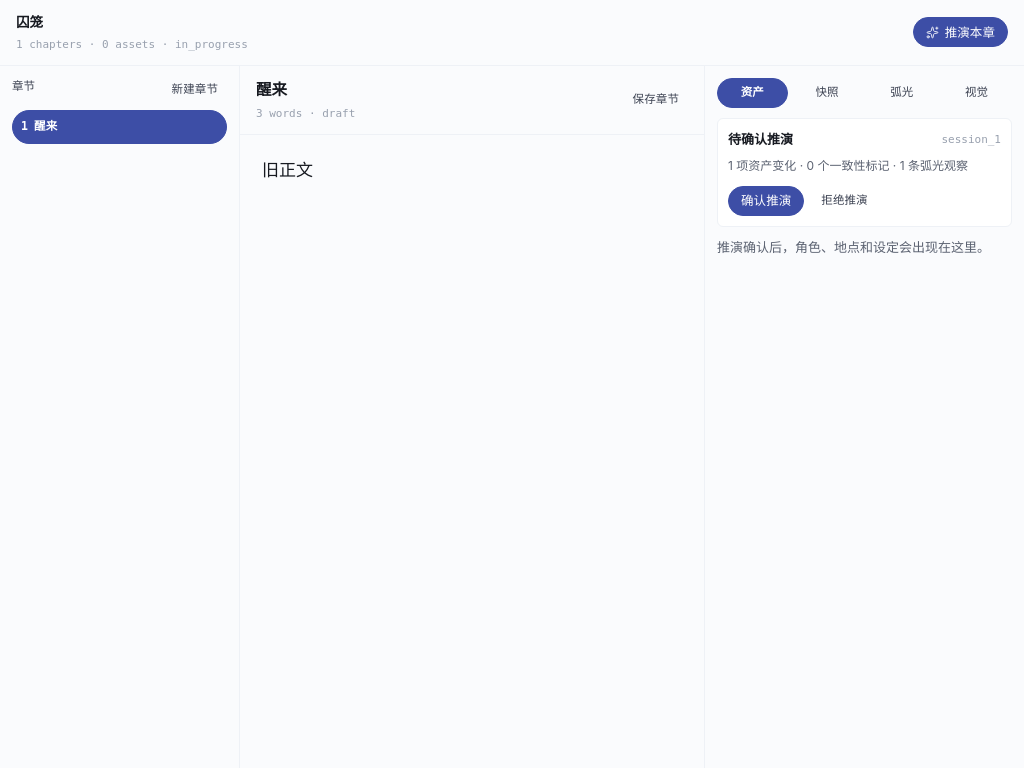
Scenario: StoryWorkbench › rejects a pending review progression without applying assets
Check: the text "待确认推演" is shown, box x1=728 y1=129 x2=793 y2=149
What coordinates should you click on to do the following:
click the button "拒绝推演"
I would click on:
 (845, 201)
Its box is x1=812 y1=189 x2=877 y2=213.
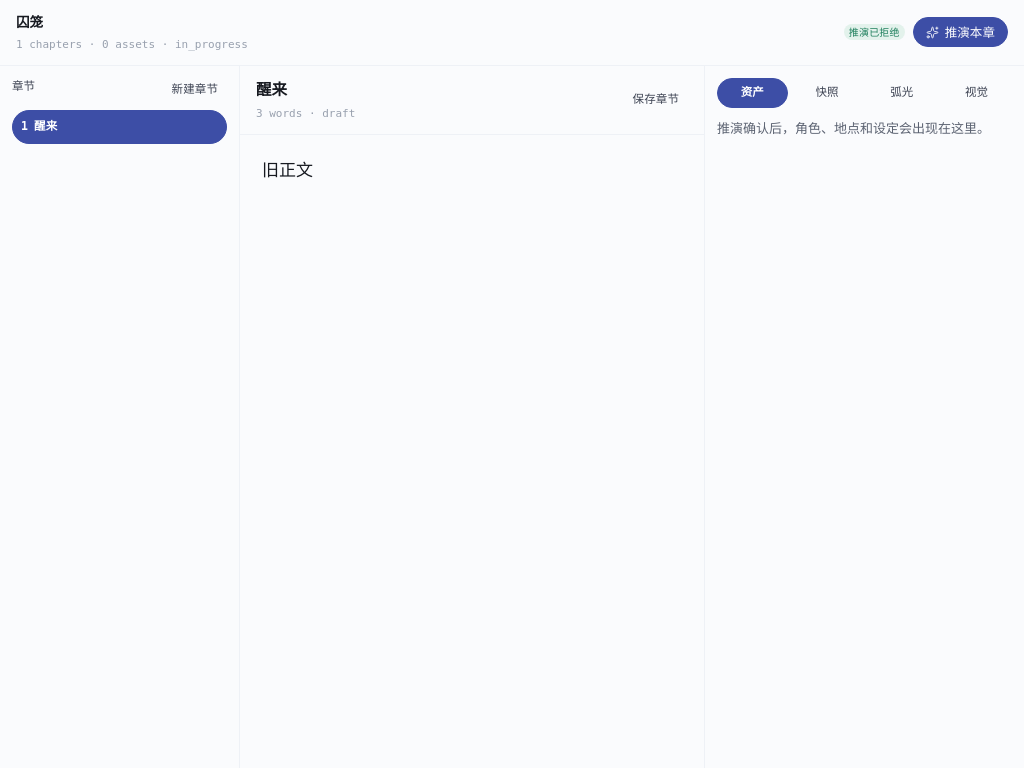
Check: the text "推演已拒绝" is shown, box x1=844 y1=24 x2=905 y2=40
Check: the text "待确认推演" is gone
